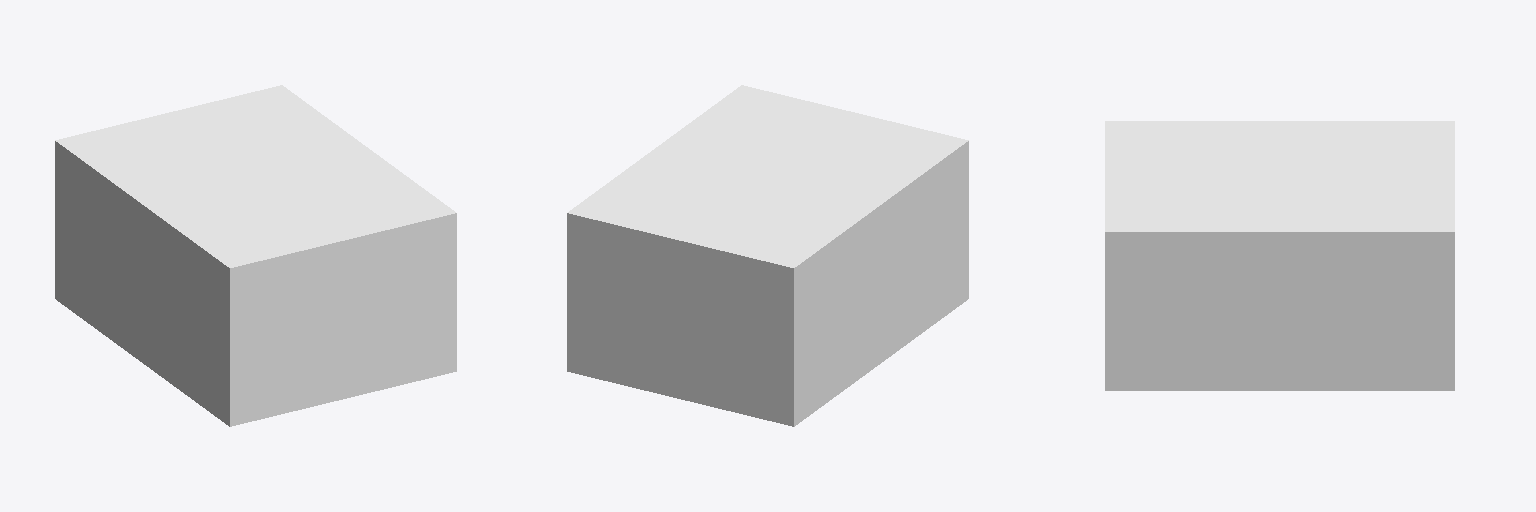
File: SH_Enviorment-21-SandbagB.obj
3 views of the same model, side by side, from view 1: azimuth 30°, elevation 25°; view 2: azimuth 150°, elevation 25°; view 3: azimuth 270°, elevation 25° (orthographic).
Parts seen in each view (by area): view 1: SandbagB; view 2: SandbagB; view 3: SandbagB.
Boxes of the visible parts, x1=… form: SandbagB: x1=55, y1=85, x2=456, y2=426; SandbagB: x1=567, y1=85, x2=968, y2=426; SandbagB: x1=1105, y1=121, x2=1454, y2=390.
Bounding box in the file's own units: 0.3 × 0.2 × 0.4.